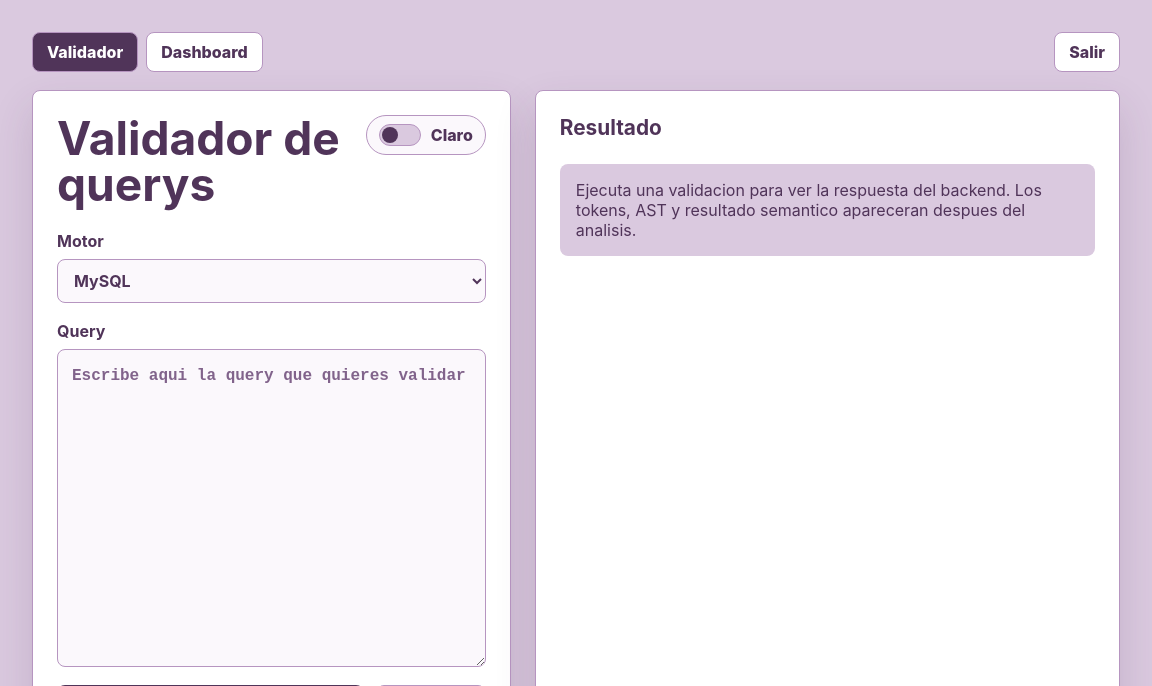
Test: App › dashboard carga estadisticas
Click the button "Dashboard".
click(204, 52)  # box x1=146 y1=32 x2=263 y2=72
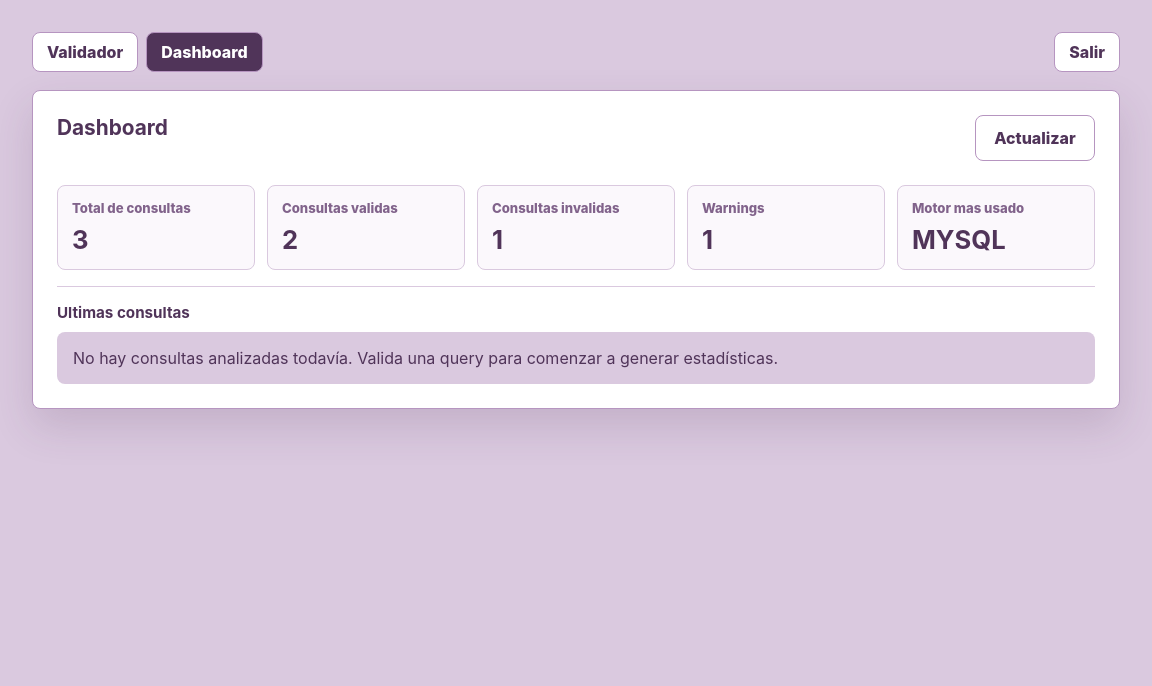
Check: the text "Total de consultas" is shown, box x1=72 y1=200 x2=191 y2=216
Check: the text "MYSQL" is shown, box x1=912 y1=224 x2=1006 y2=255
Check: the text "No hay consultas analizadas todavía." is shown, box x1=73 y1=348 x2=778 y2=368
